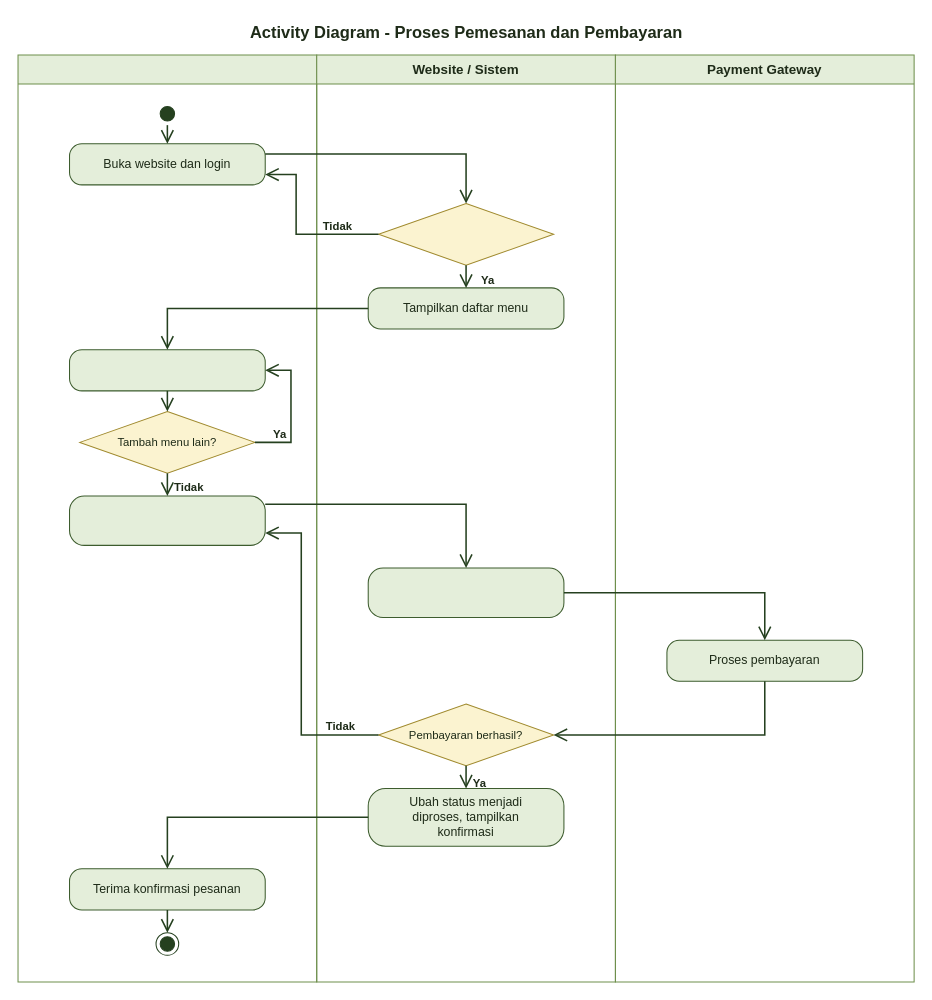
The diagram is 932 pixels wide and 1000 high, and some of its shapes have lost their labels. The shapes that lost their labels are listed below. From the top down, each one's box as (x1, y1, x2, y2) in pixels, then its label:
(377, 202, 554, 265): Login berhasil?
(68, 349, 265, 391): Pilih menu dan tambah ke keranjang
(68, 495, 265, 545): Checkout dan pilih metode pembayaran
(17, 54, 317, 982): Pelanggan
(367, 567, 564, 617): Simpan pesanan dan minta pembayaran
